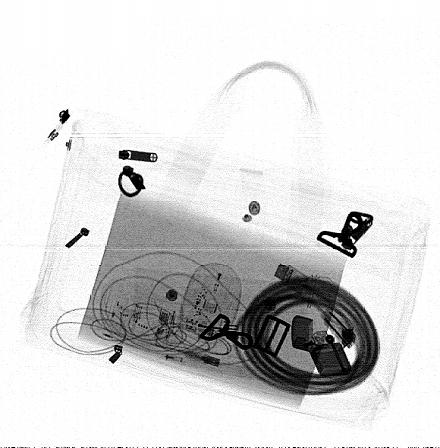Lighter: (290, 314, 352, 377)
